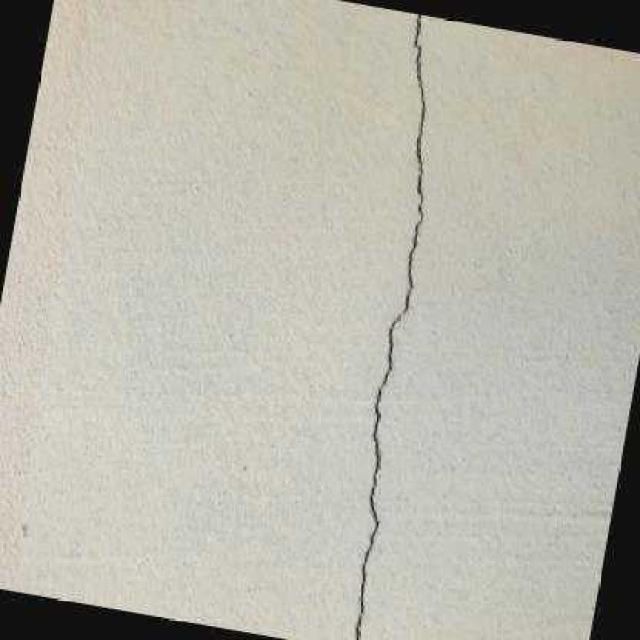D00: (352, 12, 424, 640)
